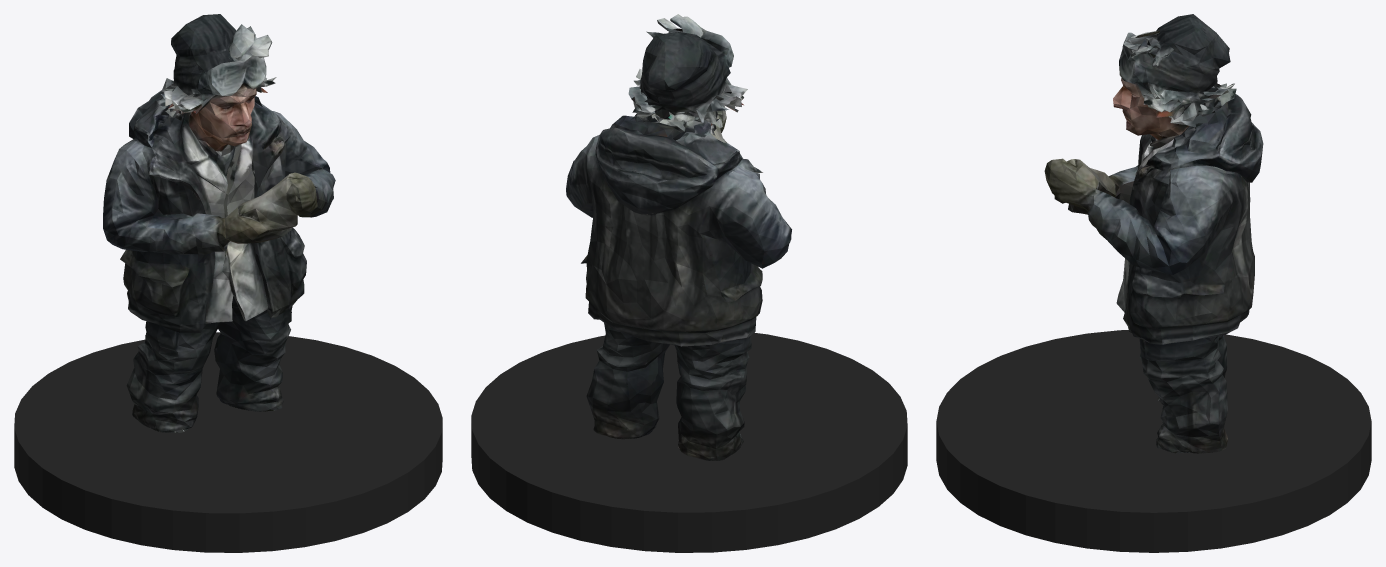
The model's file is edward-white.glb.
The picture shows the model from 3 angles, left to right: view 1: azimuth 30°, elevation 25°; view 2: azimuth 150°, elevation 25°; view 3: azimuth 270°, elevation 25°; orthographic projection.
Visible parts, largest first — view 1: base, figure; view 2: base, figure; view 3: base, figure.
Boxes of the visible parts, x1=… form: base: x1=14, y1=332, x2=442, y2=552; figure: x1=103, y1=14, x2=335, y2=432; base: x1=471, y1=332, x2=907, y2=552; figure: x1=566, y1=14, x2=791, y2=460; base: x1=936, y1=330, x2=1371, y2=552; figure: x1=1044, y1=14, x2=1263, y2=453.
Size of the model in its own units: 1.18 by 1.32 by 1.18.
Materials: 2 (1 with a texture image).
